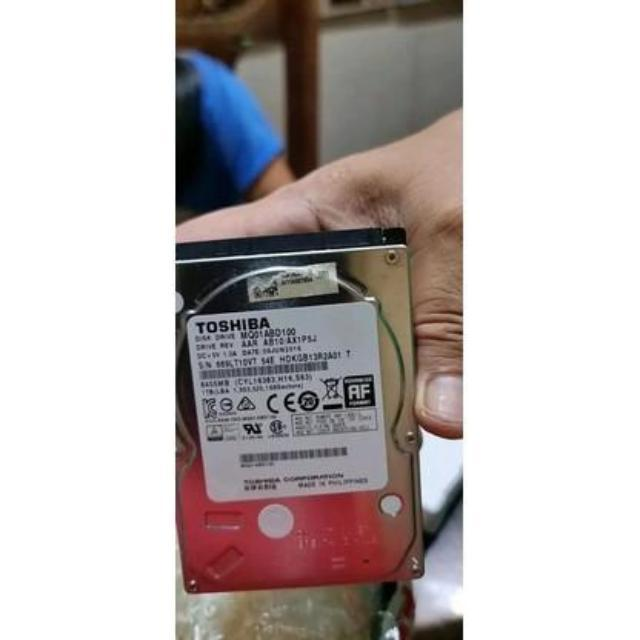DISK: (150, 228, 425, 586)
